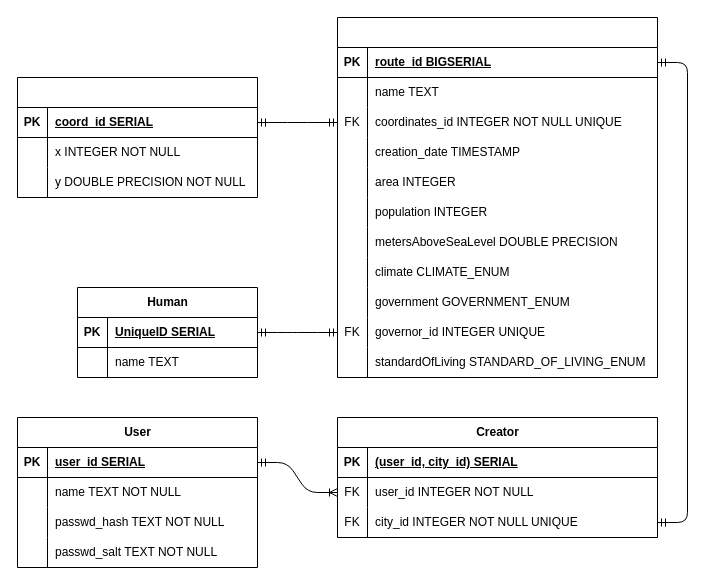
The diagram is 714 pixels wide and 585 high, and some of its shapes have lost their labels. The box of each missing label's shape, as (x1, y1, x2, y2) in pixels:
City: (336, 16, 658, 378)
Coordinates: (16, 76, 258, 198)
